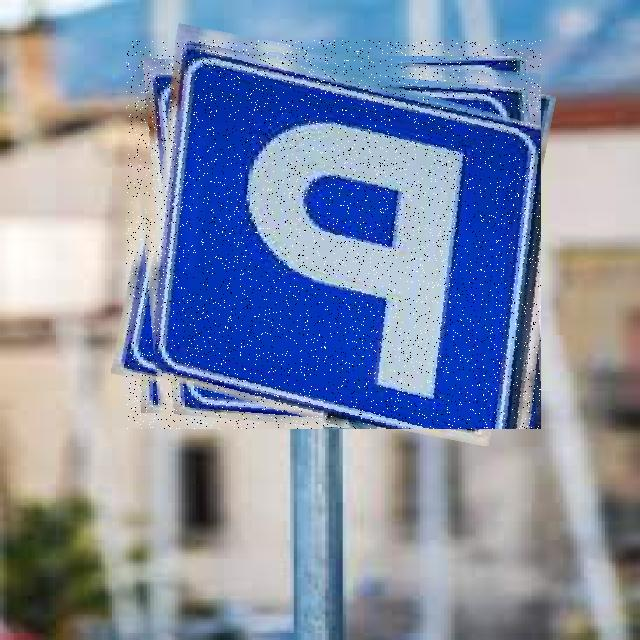parking: (126, 40, 541, 429)
